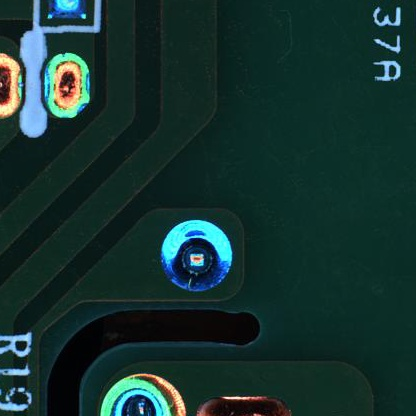spot: (158, 213, 235, 294), (44, 52, 90, 122)
